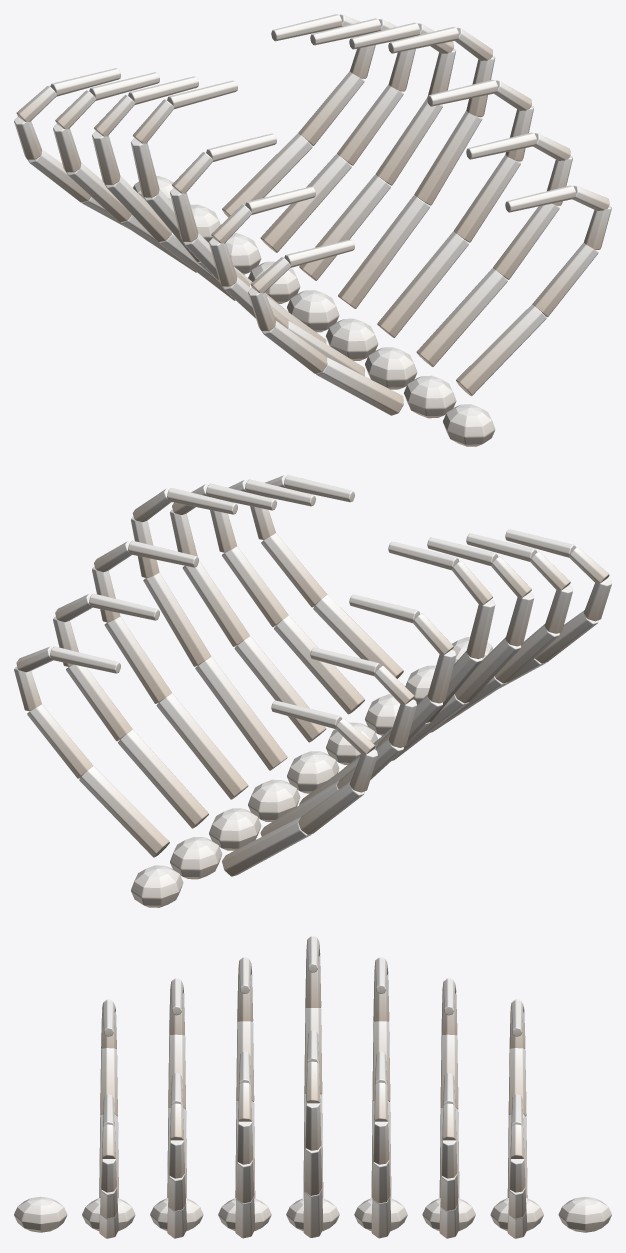
Rendered from titan_ribcage.glb.
The picture shows the model from 3 angles, top to bottom: view 1: azimuth 30°, elevation 25°; view 2: azimuth 150°, elevation 25°; view 3: azimuth 270°, elevation 25°; orthographic projection. The views are drawn at different scales.
Parts seen in each view (by area): view 1: titan_ribcage; view 2: titan_ribcage; view 3: titan_ribcage.
Part boxes in pixels (x1,y1,x2,y2): titan_ribcage: (14,14,611,446); titan_ribcage: (14,475,611,907); titan_ribcage: (14,936,611,1238).
Bounding box in the file's own units: 10.73 × 7.56 × 17.57.
1 material, 1 textured.
